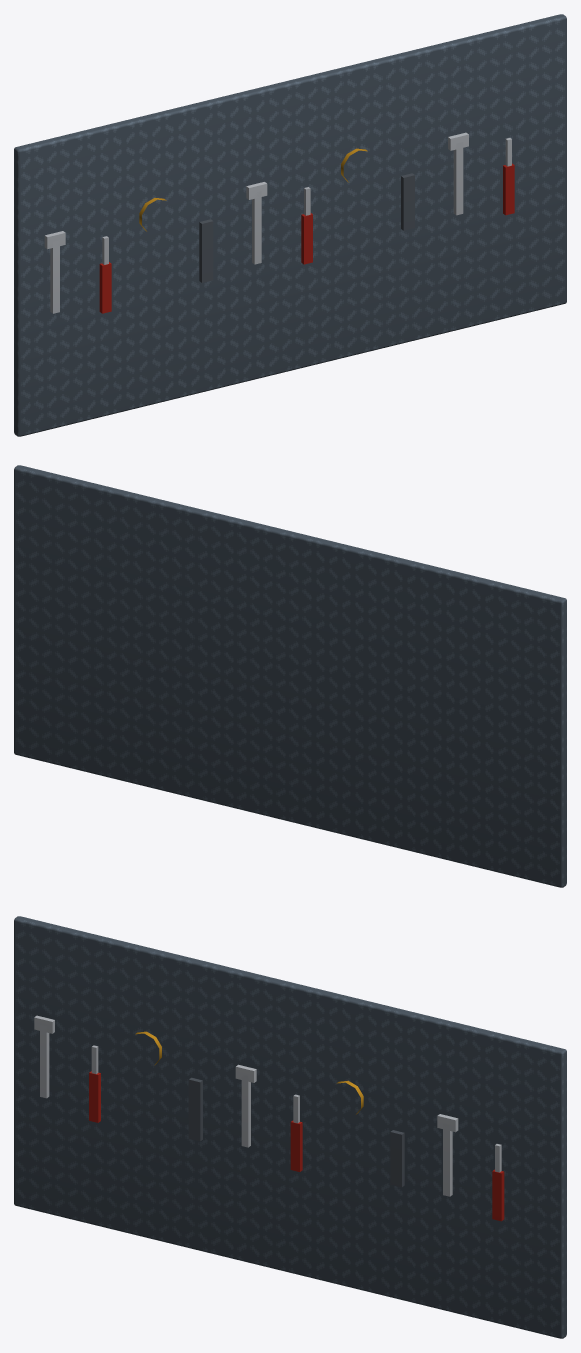
Rendered from painel_de_ferramentas.glb.
The picture shows the model from 3 angles, top to bottom: view 1: azimuth 30°, elevation 25°; view 2: azimuth 150°, elevation 25°; view 3: azimuth 330°, elevation 25°; orthographic projection.
Visible parts, largest first — view 1: painel_de_ferramentas_xadrez, painel_de_ferramentas; view 2: painel_de_ferramentas_xadrez; view 3: painel_de_ferramentas_xadrez, painel_de_ferramentas.
Part boxes in pixels (x1,y1,x2,y2): painel_de_ferramentas_xadrez: (14,14,566,436); painel_de_ferramentas: (44,132,514,313); painel_de_ferramentas_xadrez: (14,465,566,887); painel_de_ferramentas_xadrez: (14,916,566,1338); painel_de_ferramentas: (34,1015,504,1221).
Size of the model in its own units: 2.4 by 1.2 by 0.07.
Materials: 2 (1 with a texture image).
